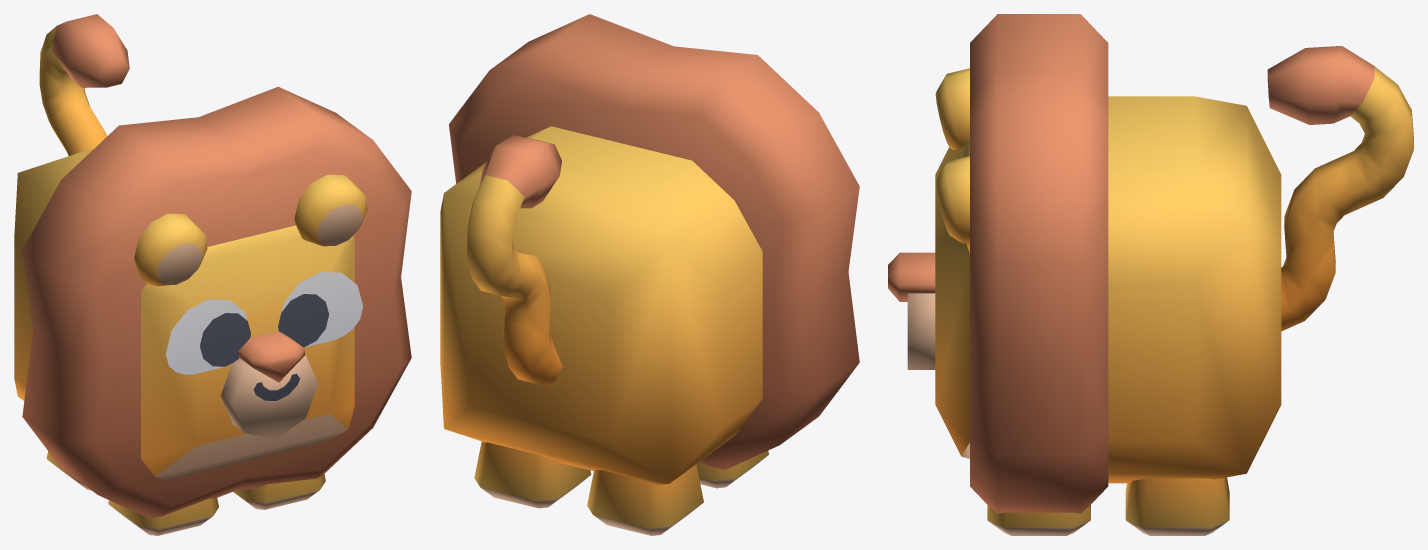
Rendered from king.glb.
The picture shows the model from 3 angles, left to right: view 1: azimuth 30°, elevation 25°; view 2: azimuth 150°, elevation 25°; view 3: azimuth 270°, elevation 25°; orthographic projection. The views are drawn at different scales.
Parts seen in each view (by area): view 1: body, tail, leg-front-right, leg-front-left; view 2: body, tail, leg-back-right, leg-back-left, leg-front-right; view 3: body, tail, leg-back-left, leg-front-left.
Part boxes in pixels (bbox=[...]): body: bbox=[14, 86, 411, 518]; tail: bbox=[39, 14, 129, 155]; leg-front-right: bbox=[108, 498, 218, 535]; leg-front-left: bbox=[233, 474, 325, 509]; body: bbox=[440, 14, 859, 484]; tail: bbox=[467, 135, 562, 386]; leg-back-right: bbox=[587, 464, 703, 535]; leg-back-left: bbox=[474, 441, 591, 508]; leg-front-right: bbox=[696, 451, 768, 488]; body: bbox=[888, 14, 1281, 513]; tail: bbox=[1267, 46, 1413, 331]; leg-back-left: bbox=[1125, 477, 1229, 535]; leg-front-left: bbox=[987, 505, 1090, 535].
Bounding box in the file's own units: 1.65 × 1.75 × 1.9.
Materials: 1 (1 with a texture image).
